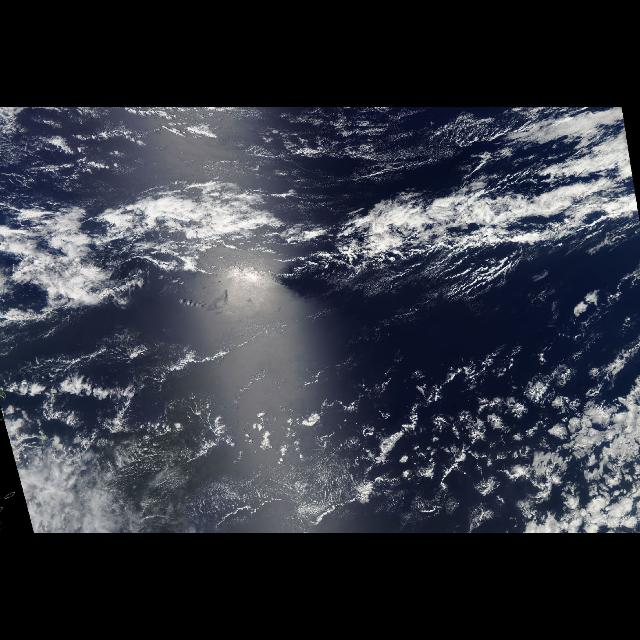Fish: (12, 204, 632, 312)
Gravel: (285, 345, 571, 491)
Sugar: (36, 120, 422, 193)
